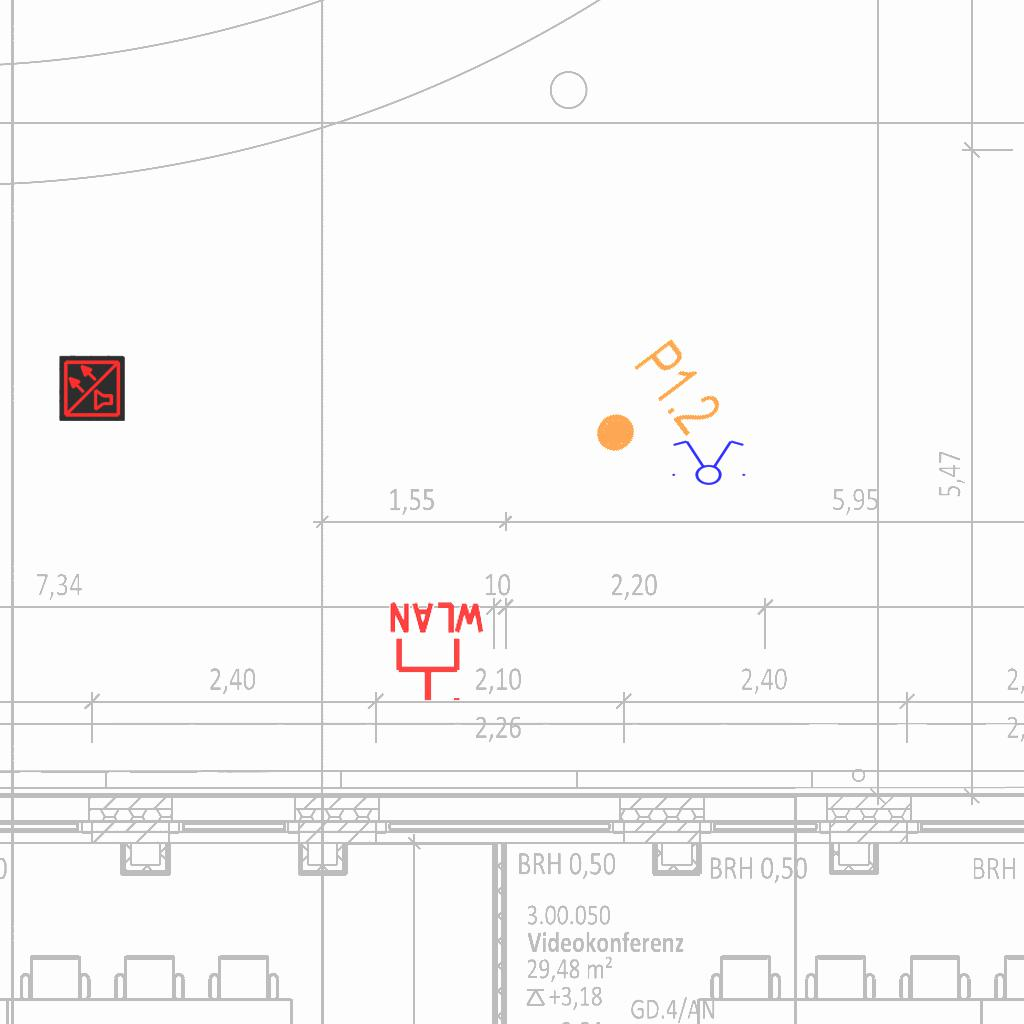Downlight_LED_Einbauleuchten_Flur: (570, 333, 729, 485)
OKW_Multisensormelder_(Kombination_optischer_Rauch-Kahlenmonoxid_Waerme-Melder): (59, 355, 125, 421)
Serienschalter: (666, 438, 750, 486)
WLAN: (385, 600, 489, 705)
